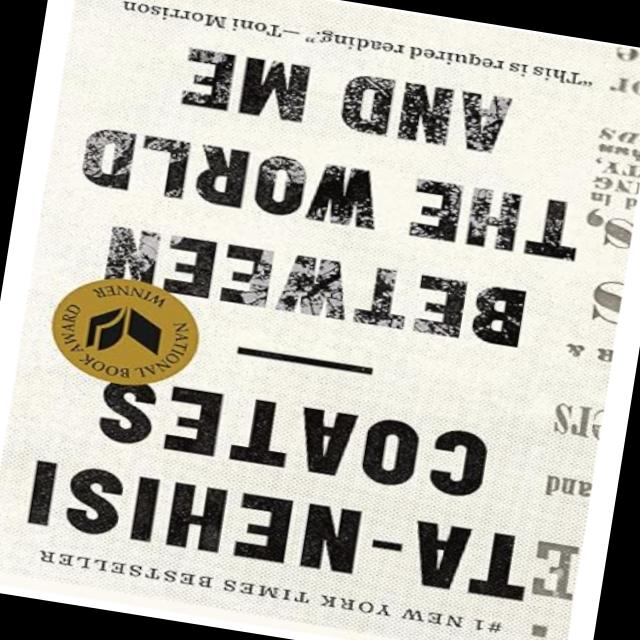titles-or-authors: (47, 21, 607, 370), (12, 353, 558, 612)
